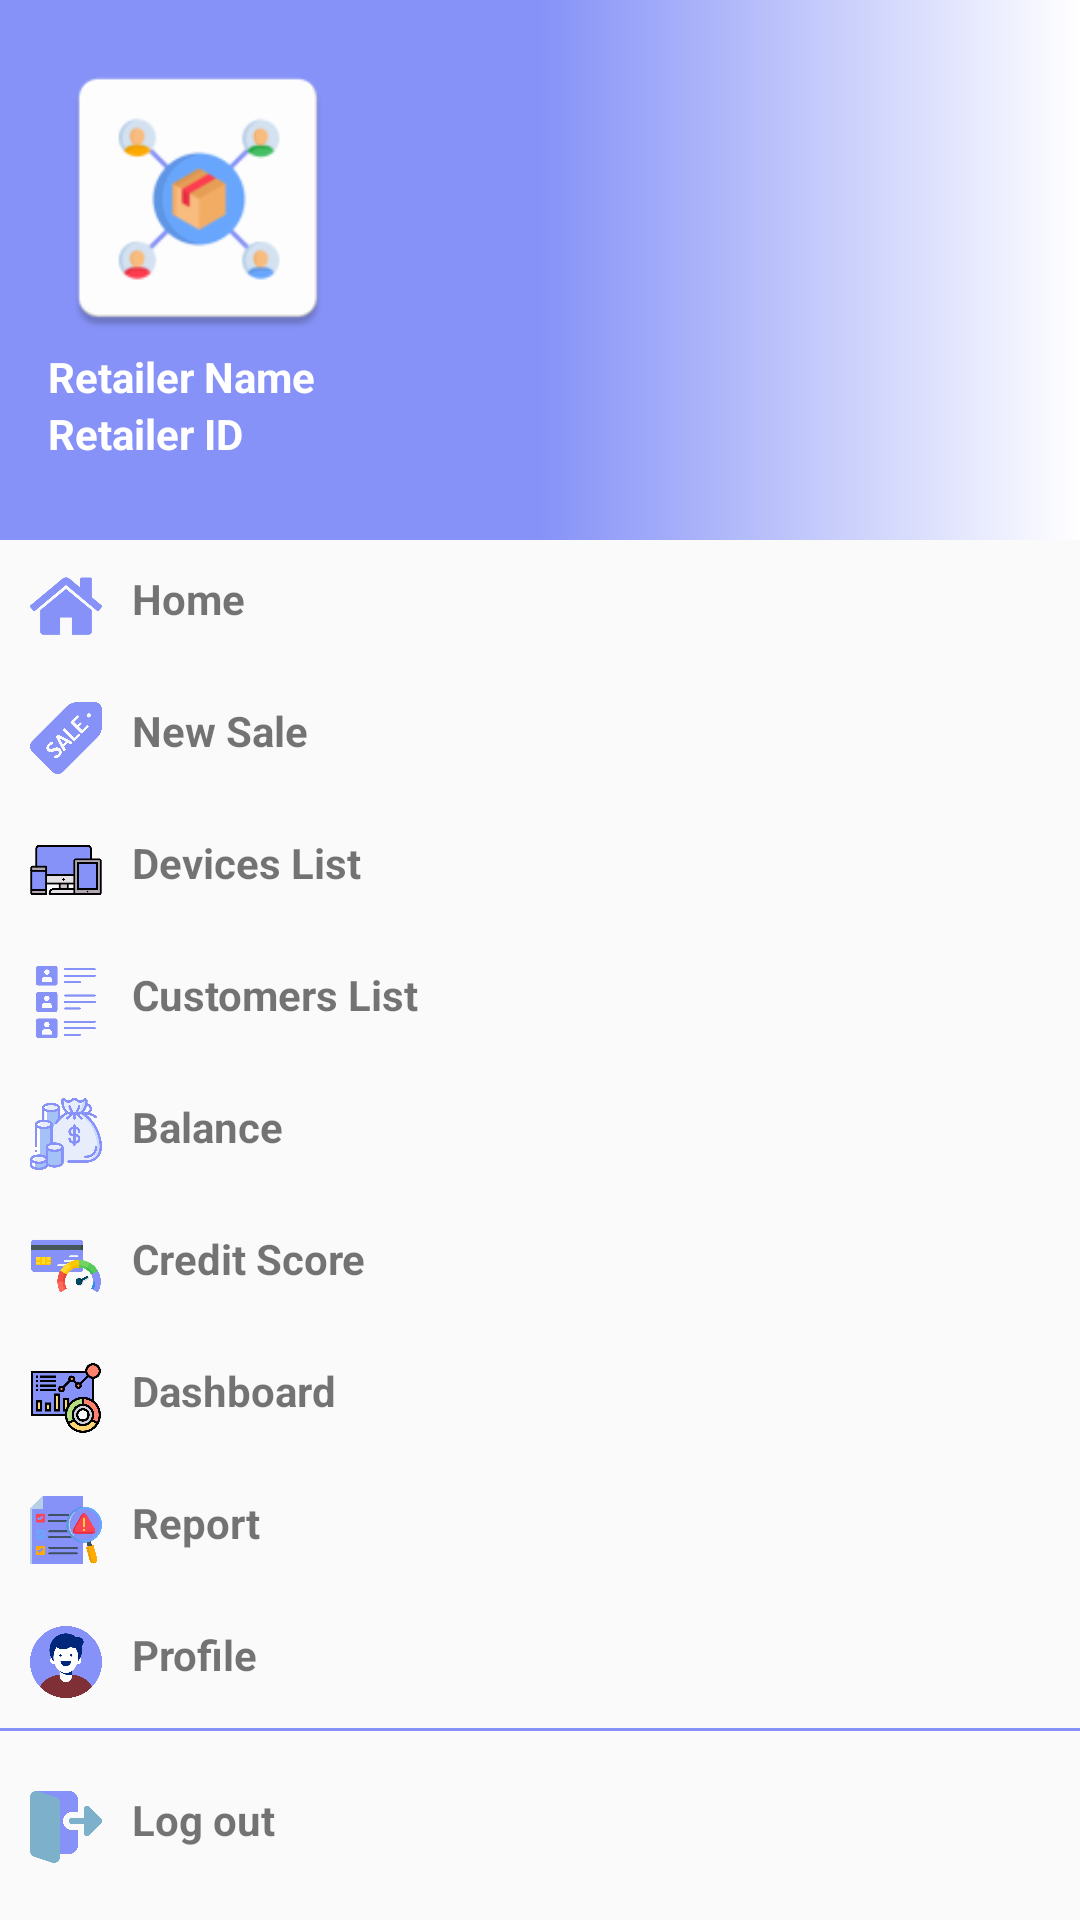

Point at icon controls on the screen. Image size 1080x1920, points as [x,y].
customerlist: [66,1002]
saletag: [66,738]
